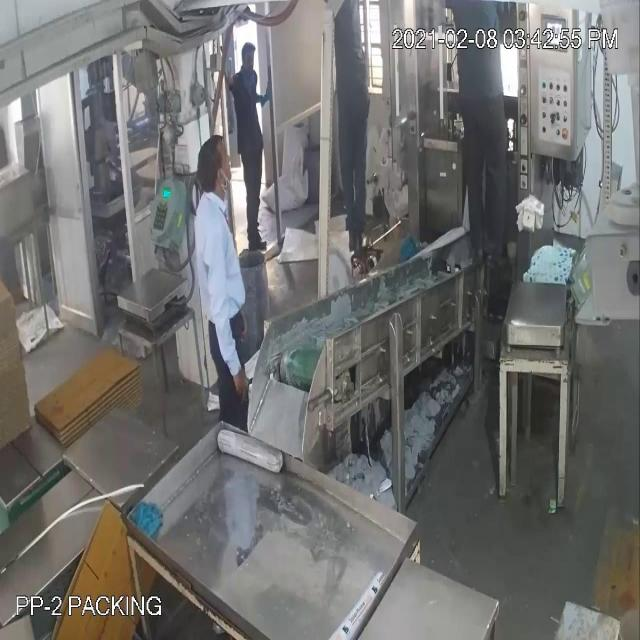No_Gloves: (201, 226, 253, 407)
